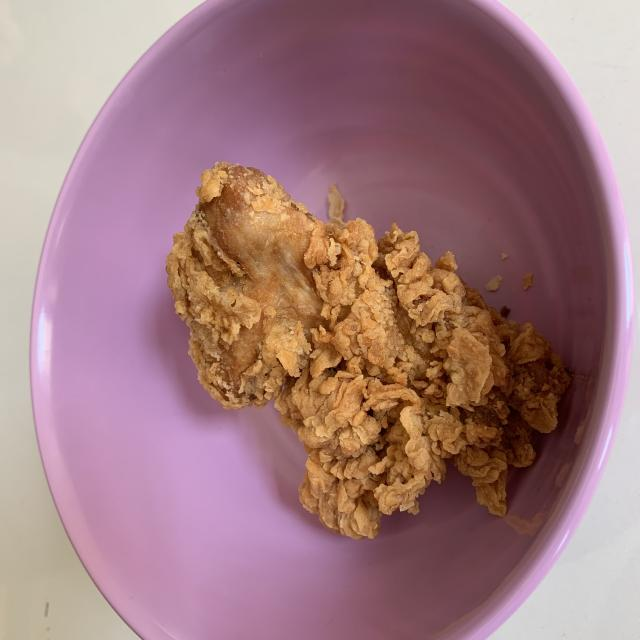Frango: (166, 161, 574, 541)
